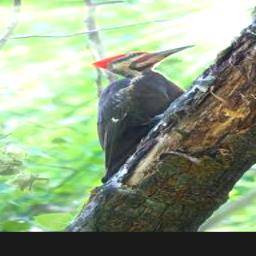Woodpecker: (89, 43, 200, 184)
